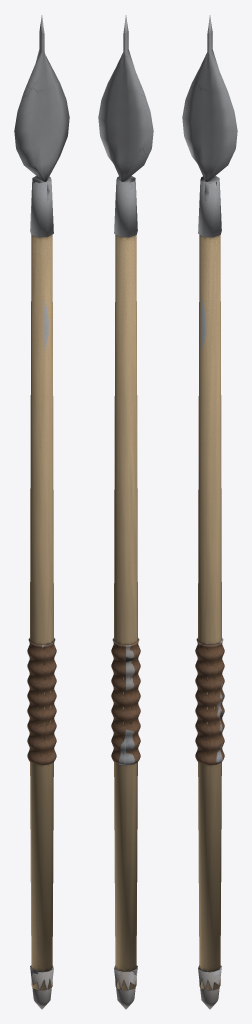
File: shortspear.glb
3 views of the same model, side by side, from view 1: azimuth 30°, elevation 25°; view 2: azimuth 150°, elevation 25°; view 3: azimuth 330°, elevation 25° (orthographic).
Parts seen in each view (by area): view 1: shortspear; view 2: shortspear; view 3: shortspear.
Part boxes in pixels (x1,y1,x2,y2): shortspear: (14, 15, 69, 1009); shortspear: (98, 15, 153, 1009); shortspear: (182, 15, 237, 1009).
Bounding box in the file's own units: 0.2175 × 3.74 × 0.0992.
Materials: 1 (1 with a texture image).
